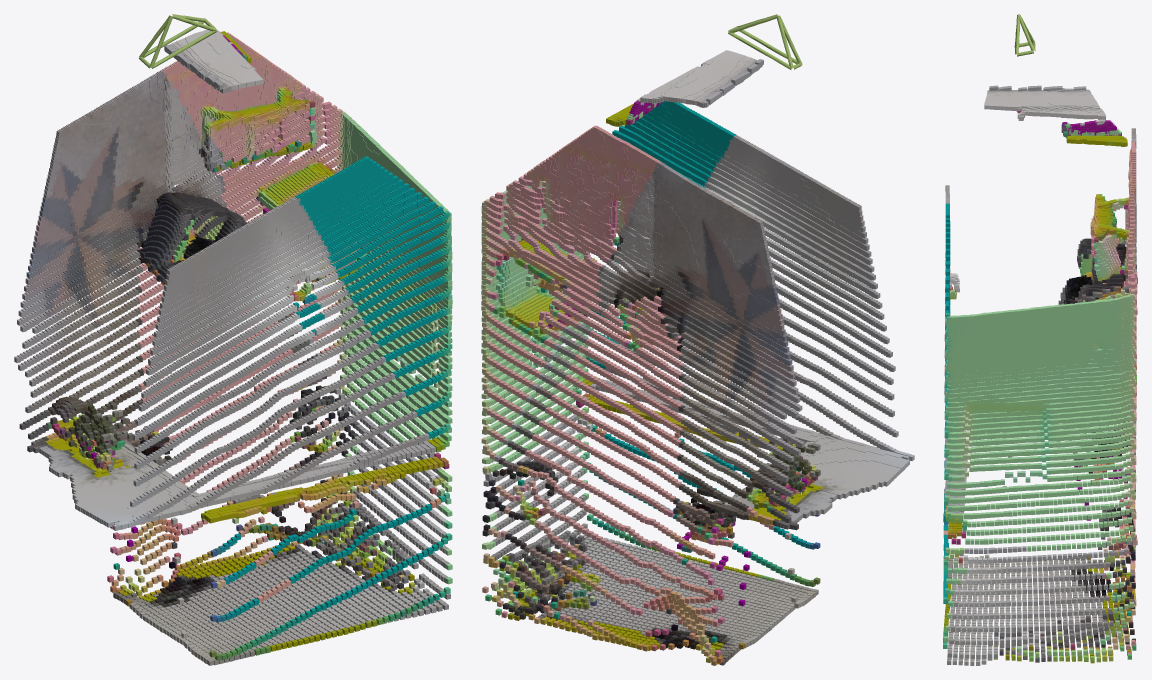
The picture shows the model from 3 angles, left to right: view 1: azimuth 30°, elevation 25°; view 2: azimuth 150°, elevation 25°; view 3: azimuth 270°, elevation 25°; orthographic projection. The views are drawn at different scales.
Size of the model in its own units: 4.07 by 7.07 by 2.26.
